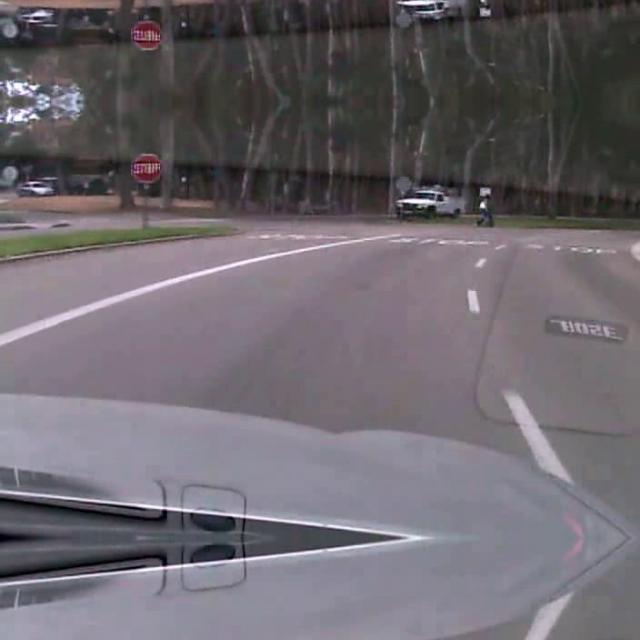stop: (130, 152, 160, 182), (130, 20, 160, 50)
